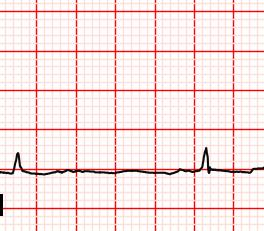Poor R Progression: (9, 148, 28, 178), (199, 146, 213, 176)
